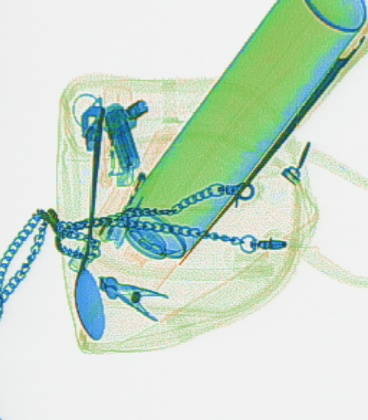lighter: (93, 124, 178, 249), (62, 169, 137, 274), (91, 83, 135, 186)
pressure: (83, 0, 366, 293)
